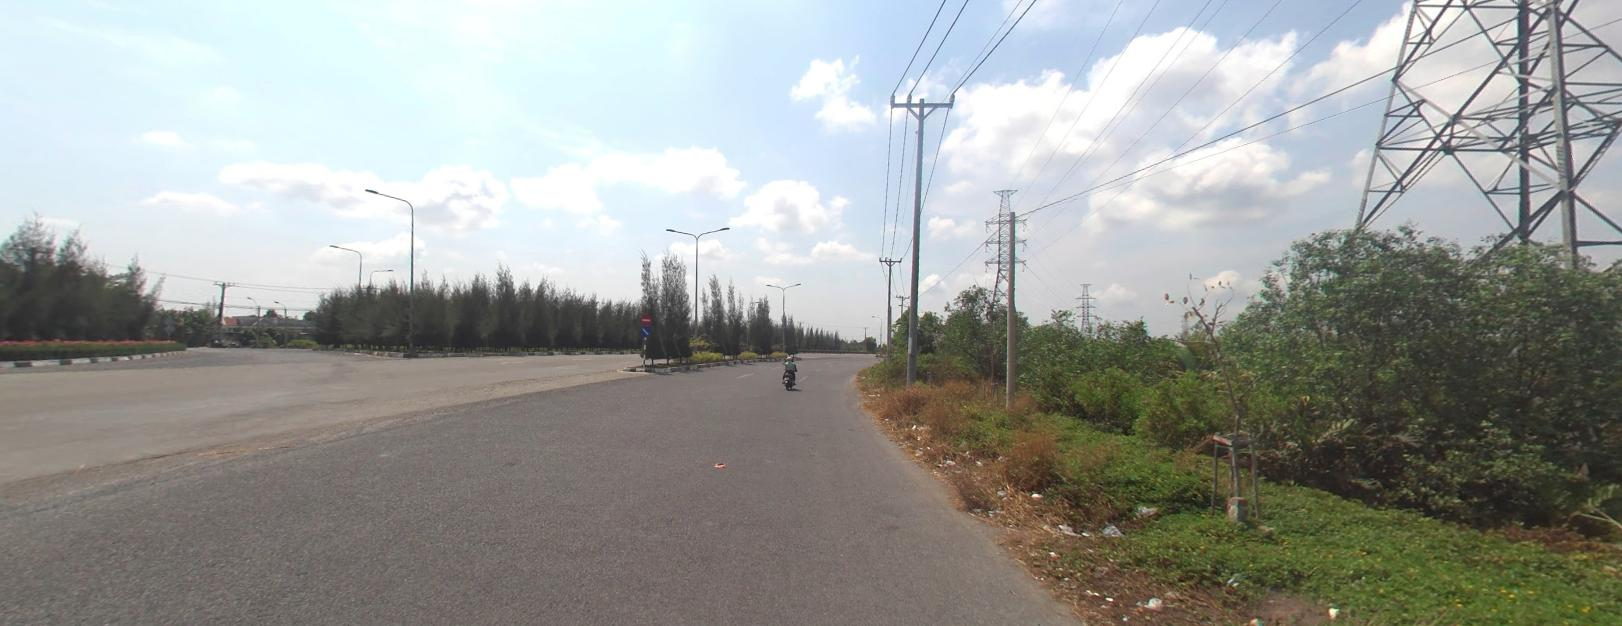Cam nguoc chieu: (640, 312, 651, 324)
Hieu lenh: (640, 325, 651, 335)
